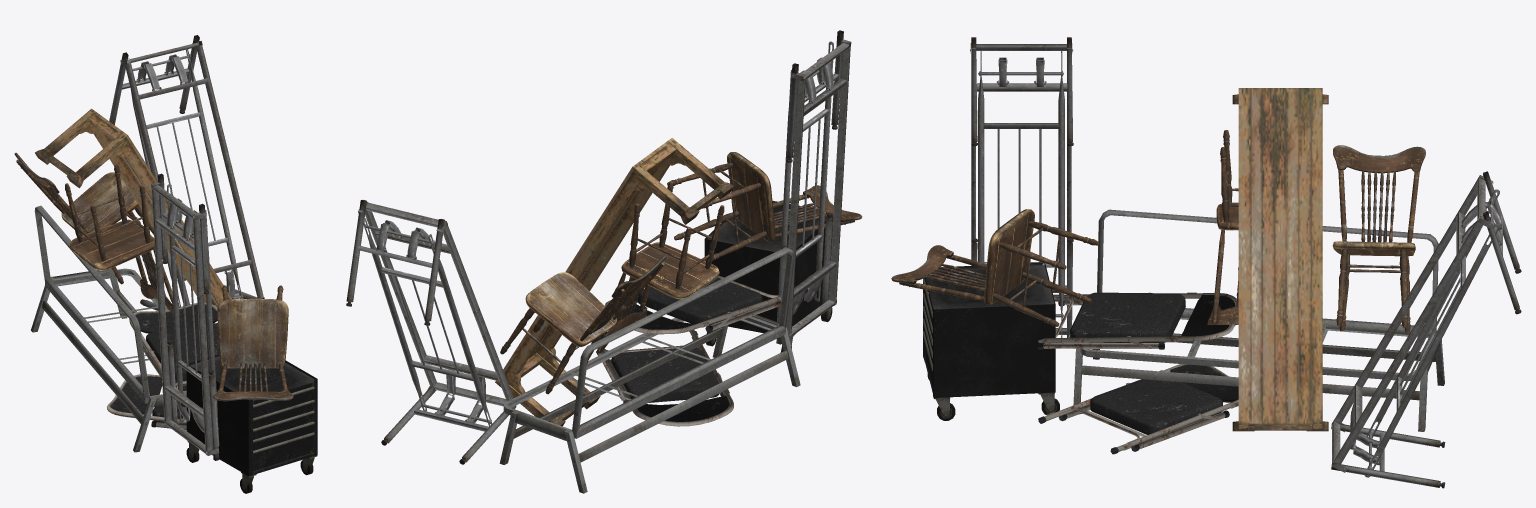
The model's file is sm39_152_hallbarricade_02.fbx.
The picture shows the model from 3 angles, left to right: view 1: azimuth 30°, elevation 25°; view 2: azimuth 150°, elevation 25°; view 3: azimuth 270°, elevation 25°; orthographic projection. The views are drawn at different scales.
Visible parts, largest first — view 1: LOD_1_Group_0_Sub_2__sm30_012_OfficeChair01A_A_Mat, LOD_1_Group_4_Sub_2__sm30_039_OfficeCabinet06A_A_Mat, LOD_1_Group_0_Sub_8__sm30_004_FoldingTable02A_A_Mat, LOD_1_Group_0_Sub_12__sm30_043_FoldingTable03A_A_Mat, LOD_1_Group_7_Sub_1__sm30_002_OfficeSofa01A_A_Mat, LOD_1_Group_0_Sub_14__sm30_079_Bench01A_A_Mat, LOD_1_Group_0_Sub_10__sm30_153_FoldingChair01A_A_Mat; view 2: LOD_1_Group_0_Sub_2__sm30_012_OfficeChair01A_A_Mat, LOD_1_Group_7_Sub_1__sm30_002_OfficeSofa01A_A_Mat, LOD_1_Group_0_Sub_12__sm30_043_FoldingTable03A_A_Mat, LOD_1_Group_0_Sub_8__sm30_004_FoldingTable02A_A_Mat, LOD_1_Group_0_Sub_10__sm30_153_FoldingChair01A_A_Mat, LOD_1_Group_0_Sub_14__sm30_079_Bench01A_A_Mat, LOD_1_Group_4_Sub_2__sm30_039_OfficeCabinet06A_A_Mat; view 3: LOD_1_Group_0_Sub_14__sm30_079_Bench01A_A_Mat, LOD_1_Group_0_Sub_2__sm30_012_OfficeChair01A_A_Mat, LOD_1_Group_0_Sub_10__sm30_153_FoldingChair01A_A_Mat, LOD_1_Group_4_Sub_2__sm30_039_OfficeCabinet06A_A_Mat, LOD_1_Group_0_Sub_12__sm30_043_FoldingTable03A_A_Mat, LOD_1_Group_7_Sub_1__sm30_002_OfficeSofa01A_A_Mat, LOD_1_Group_0_Sub_8__sm30_004_FoldingTable02A_A_Mat.
Boxes of the visible parts, x1,y1,x2,y2 form: LOD_1_Group_0_Sub_2__sm30_012_OfficeChair01A_A_Mat: (14, 152, 293, 401); LOD_1_Group_4_Sub_2__sm30_039_OfficeCabinet06A_A_Mat: (186, 354, 317, 493); LOD_1_Group_0_Sub_8__sm30_004_FoldingTable02A_A_Mat: (151, 173, 219, 460); LOD_1_Group_0_Sub_12__sm30_043_FoldingTable03A_A_Mat: (109, 35, 264, 310); LOD_1_Group_7_Sub_1__sm30_002_OfficeSofa01A_A_Mat: (31, 205, 186, 452); LOD_1_Group_0_Sub_14__sm30_079_Bench01A_A_Mat: (35, 108, 232, 307); LOD_1_Group_0_Sub_10__sm30_153_FoldingChair01A_A_Mat: (107, 303, 219, 430); LOD_1_Group_0_Sub_2__sm30_012_OfficeChair01A_A_Mat: (500, 152, 862, 394); LOD_1_Group_7_Sub_1__sm30_002_OfficeSofa01A_A_Mat: (499, 247, 800, 493); LOD_1_Group_0_Sub_12__sm30_043_FoldingTable03A_A_Mat: (346, 200, 516, 464); LOD_1_Group_0_Sub_8__sm30_004_FoldingTable02A_A_Mat: (776, 30, 851, 344); LOD_1_Group_0_Sub_10__sm30_153_FoldingChair01A_A_Mat: (596, 275, 807, 426); LOD_1_Group_0_Sub_14__sm30_079_Bench01A_A_Mat: (495, 138, 734, 426); LOD_1_Group_4_Sub_2__sm30_039_OfficeCabinet06A_A_Mat: (704, 200, 833, 352); LOD_1_Group_0_Sub_14__sm30_079_Bench01A_A_Mat: (1232, 88, 1328, 431); LOD_1_Group_0_Sub_2__sm30_012_OfficeChair01A_A_Mat: (891, 130, 1425, 332); LOD_1_Group_0_Sub_10__sm30_153_FoldingChair01A_A_Mat: (1037, 292, 1238, 454); LOD_1_Group_4_Sub_2__sm30_039_OfficeCabinet06A_A_Mat: (923, 262, 1059, 420); LOD_1_Group_0_Sub_12__sm30_043_FoldingTable03A_A_Mat: (1331, 171, 1521, 488); LOD_1_Group_7_Sub_1__sm30_002_OfficeSofa01A_A_Mat: (1073, 209, 1444, 431); LOD_1_Group_0_Sub_8__sm30_004_FoldingTable02A_A_Mat: (970, 37, 1073, 337).
Bounding box in the file's own units: 1.92 × 2.28 × 3.74.
